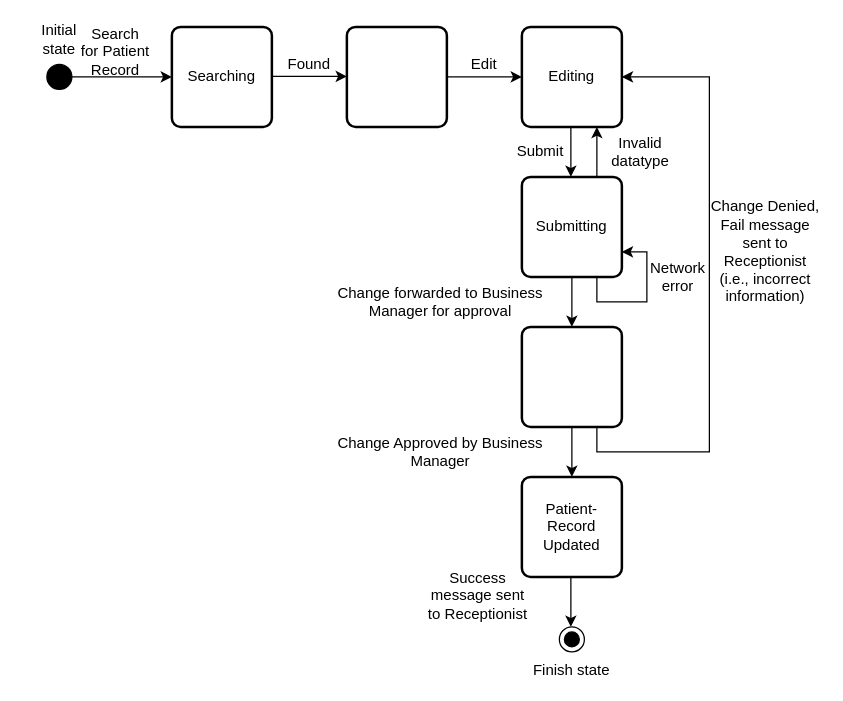
Some shapes in this 843 by 701 pixel diagram are drawn without their labels. The box of each missing label's shape, as (x1, y1, x2, y2) in pixels:
Authorizing Change: (520, 325, 622, 428)
Reviewing: (345, 25, 448, 128)
